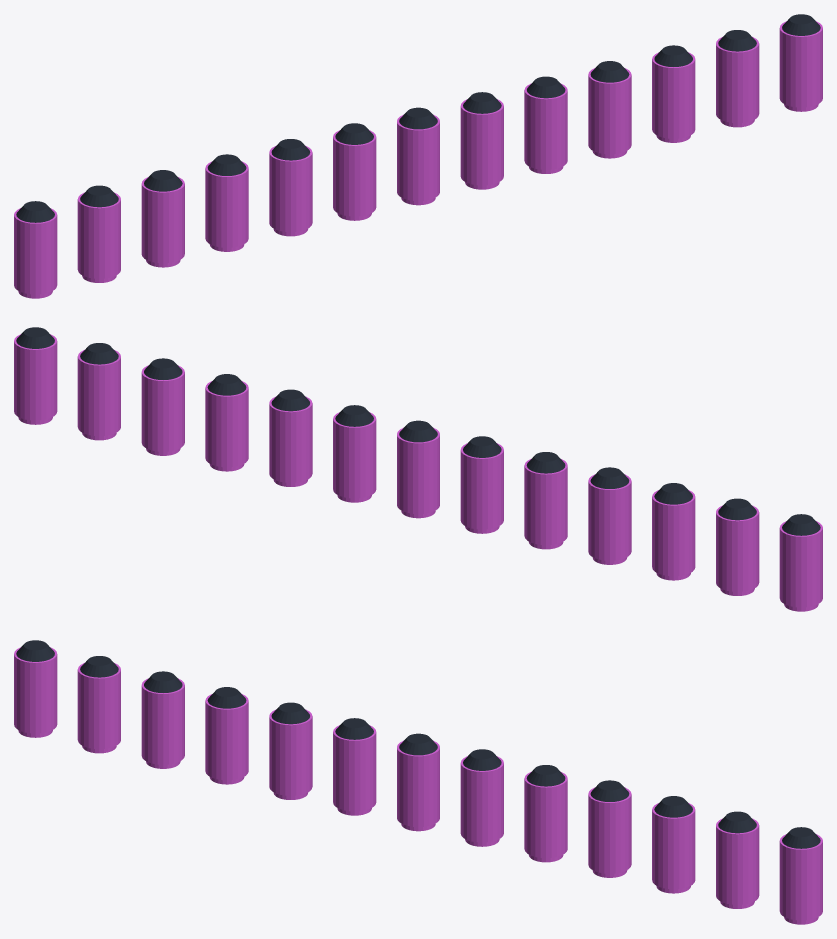
Rendered from ash-purple-silo-group-v3-low.glb.
3 renders of one model, top to bottom at view 1: azimuth 30°, elevation 25°; view 2: azimuth 150°, elevation 25°; view 3: azimuth 330°, elevation 25°, orthographic.
Visible parts, largest first — view 1: PURPLE-ASH-SILO-REVIEW-01-body.001, PURPLE-ASH-SILO-REVIEW-03-body.001, PURPLE-ASH-SILO-REVIEW-08-body.001, PURPLE-ASH-SILO-REVIEW-12-body.001, PURPLE-ASH-SILO-REVIEW-10-body.001, PURPLE-ASH-SILO-REVIEW-06-body.001, PURPLE-ASH-SILO-REVIEW-09-body.001, PURPLE-ASH-SILO-REVIEW-11-body.001, PURPLE-ASH-SILO-REVIEW-13-body.001, PURPLE-ASH-SILO-REVIEW-04-body.001, PURPLE-ASH-SILO-REVIEW-02-body.001, PURPLE-ASH-SILO-REVIEW-05-body.001 (+14 smaller); view 2: PURPLE-ASH-SILO-REVIEW-01-body.001, PURPLE-ASH-SILO-REVIEW-03-body.001, PURPLE-ASH-SILO-REVIEW-08-body.001, PURPLE-ASH-SILO-REVIEW-12-body.001, PURPLE-ASH-SILO-REVIEW-10-body.001, PURPLE-ASH-SILO-REVIEW-06-body.001, PURPLE-ASH-SILO-REVIEW-09-body.001, PURPLE-ASH-SILO-REVIEW-11-body.001, PURPLE-ASH-SILO-REVIEW-13-body.001, PURPLE-ASH-SILO-REVIEW-04-body.001, PURPLE-ASH-SILO-REVIEW-02-body.001, PURPLE-ASH-SILO-REVIEW-05-body.001 (+14 smaller); view 3: PURPLE-ASH-SILO-REVIEW-13-body.001, PURPLE-ASH-SILO-REVIEW-06-body.001, PURPLE-ASH-SILO-REVIEW-11-body.001, PURPLE-ASH-SILO-REVIEW-02-body.001, PURPLE-ASH-SILO-REVIEW-04-body.001, PURPLE-ASH-SILO-REVIEW-01-body.001, PURPLE-ASH-SILO-REVIEW-03-body.001, PURPLE-ASH-SILO-REVIEW-05-body.001, PURPLE-ASH-SILO-REVIEW-08-body.001, PURPLE-ASH-SILO-REVIEW-10-body.001, PURPLE-ASH-SILO-REVIEW-09-body.001, PURPLE-ASH-SILO-REVIEW-12-body.001 (+14 smaller).
Part boxes in pixels (x1,y1,x2,y2): PURPLE-ASH-SILO-REVIEW-01-body.001: (14,208,57,294); PURPLE-ASH-SILO-REVIEW-03-body.001: (141,177,184,263); PURPLE-ASH-SILO-REVIEW-08-body.001: (460,99,503,185); PURPLE-ASH-SILO-REVIEW-12-body.001: (716,36,759,123); PURPLE-ASH-SILO-REVIEW-10-body.001: (588,68,631,154); PURPLE-ASH-SILO-REVIEW-06-body.001: (333,130,376,216); PURPLE-ASH-SILO-REVIEW-09-body.001: (524,83,567,169); PURPLE-ASH-SILO-REVIEW-11-body.001: (652,52,695,138); PURPLE-ASH-SILO-REVIEW-13-body.001: (779,21,822,107); PURPLE-ASH-SILO-REVIEW-04-body.001: (205,161,248,247); PURPLE-ASH-SILO-REVIEW-02-body.001: (77,192,120,278); PURPLE-ASH-SILO-REVIEW-05-body.001: (269,145,312,232); PURPLE-ASH-SILO-REVIEW-01-body.001: (779,521,822,607); PURPLE-ASH-SILO-REVIEW-03-body.001: (652,490,695,576); PURPLE-ASH-SILO-REVIEW-08-body.001: (333,412,376,498); PURPLE-ASH-SILO-REVIEW-12-body.001: (77,349,120,436); PURPLE-ASH-SILO-REVIEW-10-body.001: (205,381,248,467); PURPLE-ASH-SILO-REVIEW-06-body.001: (460,443,503,529); PURPLE-ASH-SILO-REVIEW-09-body.001: (269,396,312,482); PURPLE-ASH-SILO-REVIEW-11-body.001: (141,365,184,451); PURPLE-ASH-SILO-REVIEW-13-body.001: (14,334,57,420); PURPLE-ASH-SILO-REVIEW-04-body.001: (588,474,631,560); PURPLE-ASH-SILO-REVIEW-02-body.001: (716,505,759,591); PURPLE-ASH-SILO-REVIEW-05-body.001: (524,458,567,545); PURPLE-ASH-SILO-REVIEW-13-body.001: (779,834,822,920); PURPLE-ASH-SILO-REVIEW-06-body.001: (333,725,376,811); PURPLE-ASH-SILO-REVIEW-11-body.001: (652,803,695,889); PURPLE-ASH-SILO-REVIEW-02-body.001: (77,662,120,749); PURPLE-ASH-SILO-REVIEW-04-body.001: (205,694,248,780); PURPLE-ASH-SILO-REVIEW-01-body.001: (14,647,57,733); PURPLE-ASH-SILO-REVIEW-03-body.001: (141,678,184,764); PURPLE-ASH-SILO-REVIEW-05-body.001: (269,709,312,795); PURPLE-ASH-SILO-REVIEW-08-body.001: (460,756,503,842); PURPLE-ASH-SILO-REVIEW-10-body.001: (588,787,631,873); PURPLE-ASH-SILO-REVIEW-09-body.001: (524,771,567,858); PURPLE-ASH-SILO-REVIEW-12-body.001: (716,818,759,904).
Bounding box in the file's own units: 197 × 20 × 9.2.
